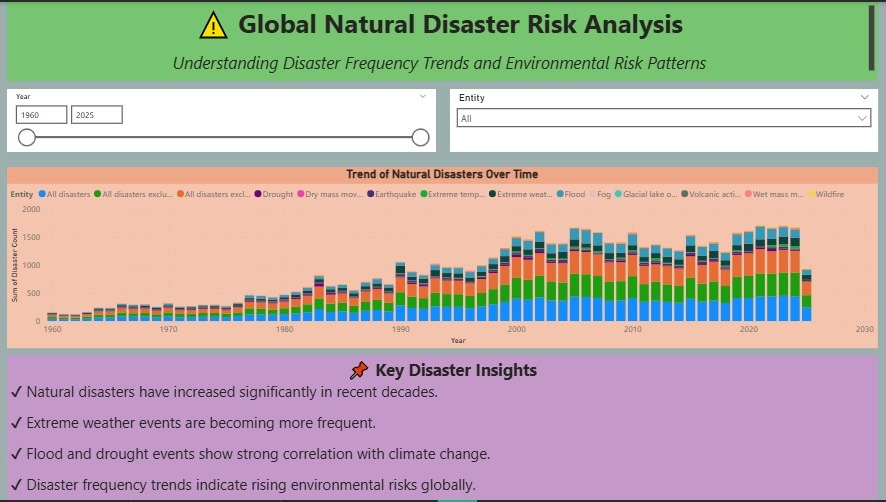

The dashboard page shown, as its layout file describes it:
{"tool":"powerbi","page":{"name":"Disaster Risk Analysis","canvas":[1280,720],"ordinal":2},"visuals":[{"type":"textbox","box":[10.1,0,1259.3,114.2],"z":0},{"type":"columnChart","title":"Trend of Natural Disasters Over Time","fields":{"Category":["DateTable.Year"],"Y":["Sum(natural_disasters.Disaster Count)"],"Series":["natural_disasters.Entity"]},"box":[10.1,238.6,1259.3,261.7],"z":1},{"type":"slicer","fields":{"Values":["DateTable.Year"]},"box":[10.1,125.8,618.8,91.1],"z":2},{"type":"slicer","fields":{"Values":["natural_disasters.Entity"]},"box":[650.6,125.8,618.8,91.1],"z":3},{"type":"textbox","box":[10,511,1259,209],"z":4}]}

Visuals, with their boxes in screenshot pixels (x1, y1, x2, y2), scaled from the page's 1280x720 canvas onto the 886x502 screenshot:
textbox: <box>7,0,879,80</box>
"Trend of Natural Disasters Over Time" columnChart: <box>7,166,879,349</box>
slicer - DateTable.Year: <box>7,88,435,151</box>
slicer - natural_disasters.Entity: <box>450,88,879,151</box>
textbox: <box>7,356,878,501</box>
